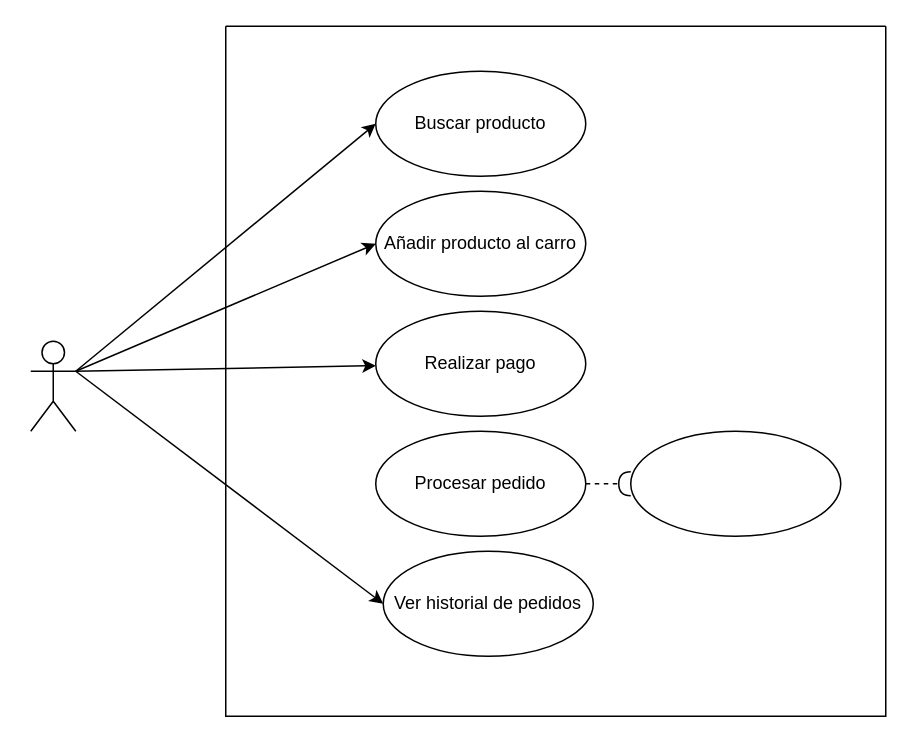
Image size: 912x743. Some labels were removed from this diagram. The box of each missing label's shape, as (x1, y1, x2, y2) in pixels:
Cliente: (29, 340, 76, 431)
Verificar disponibilidad de stock: (629, 430, 841, 536)
